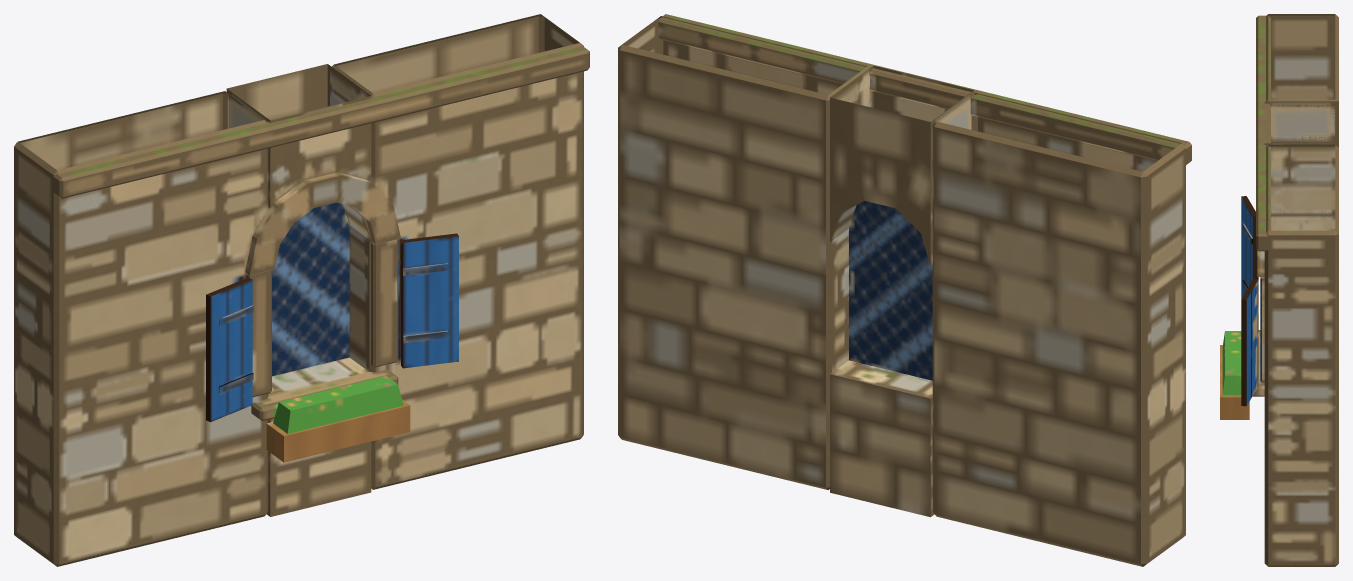
Rendered from Kit_Keep_Wall.fbx.
3 renders of one model, left to right at view 1: azimuth 30°, elevation 25°; view 2: azimuth 150°, elevation 25°; view 3: azimuth 270°, elevation 25°, orthographic. The views are drawn at different scales.
Visible parts, largest first — view 1: Kit_Keep_Wall_LOD0; view 2: Kit_Keep_Wall_LOD0; view 3: Kit_Keep_Wall_LOD0.
Part boxes in pixels (box(x1,y1,x2,y2)): Kit_Keep_Wall_LOD0: box(14, 14, 589, 566); Kit_Keep_Wall_LOD0: box(618, 14, 1191, 566); Kit_Keep_Wall_LOD0: box(1220, 14, 1338, 566).
Size of what is drawn, in the model's own units: 4.2 by 3 by 0.96.
1 material, 1 textured.
